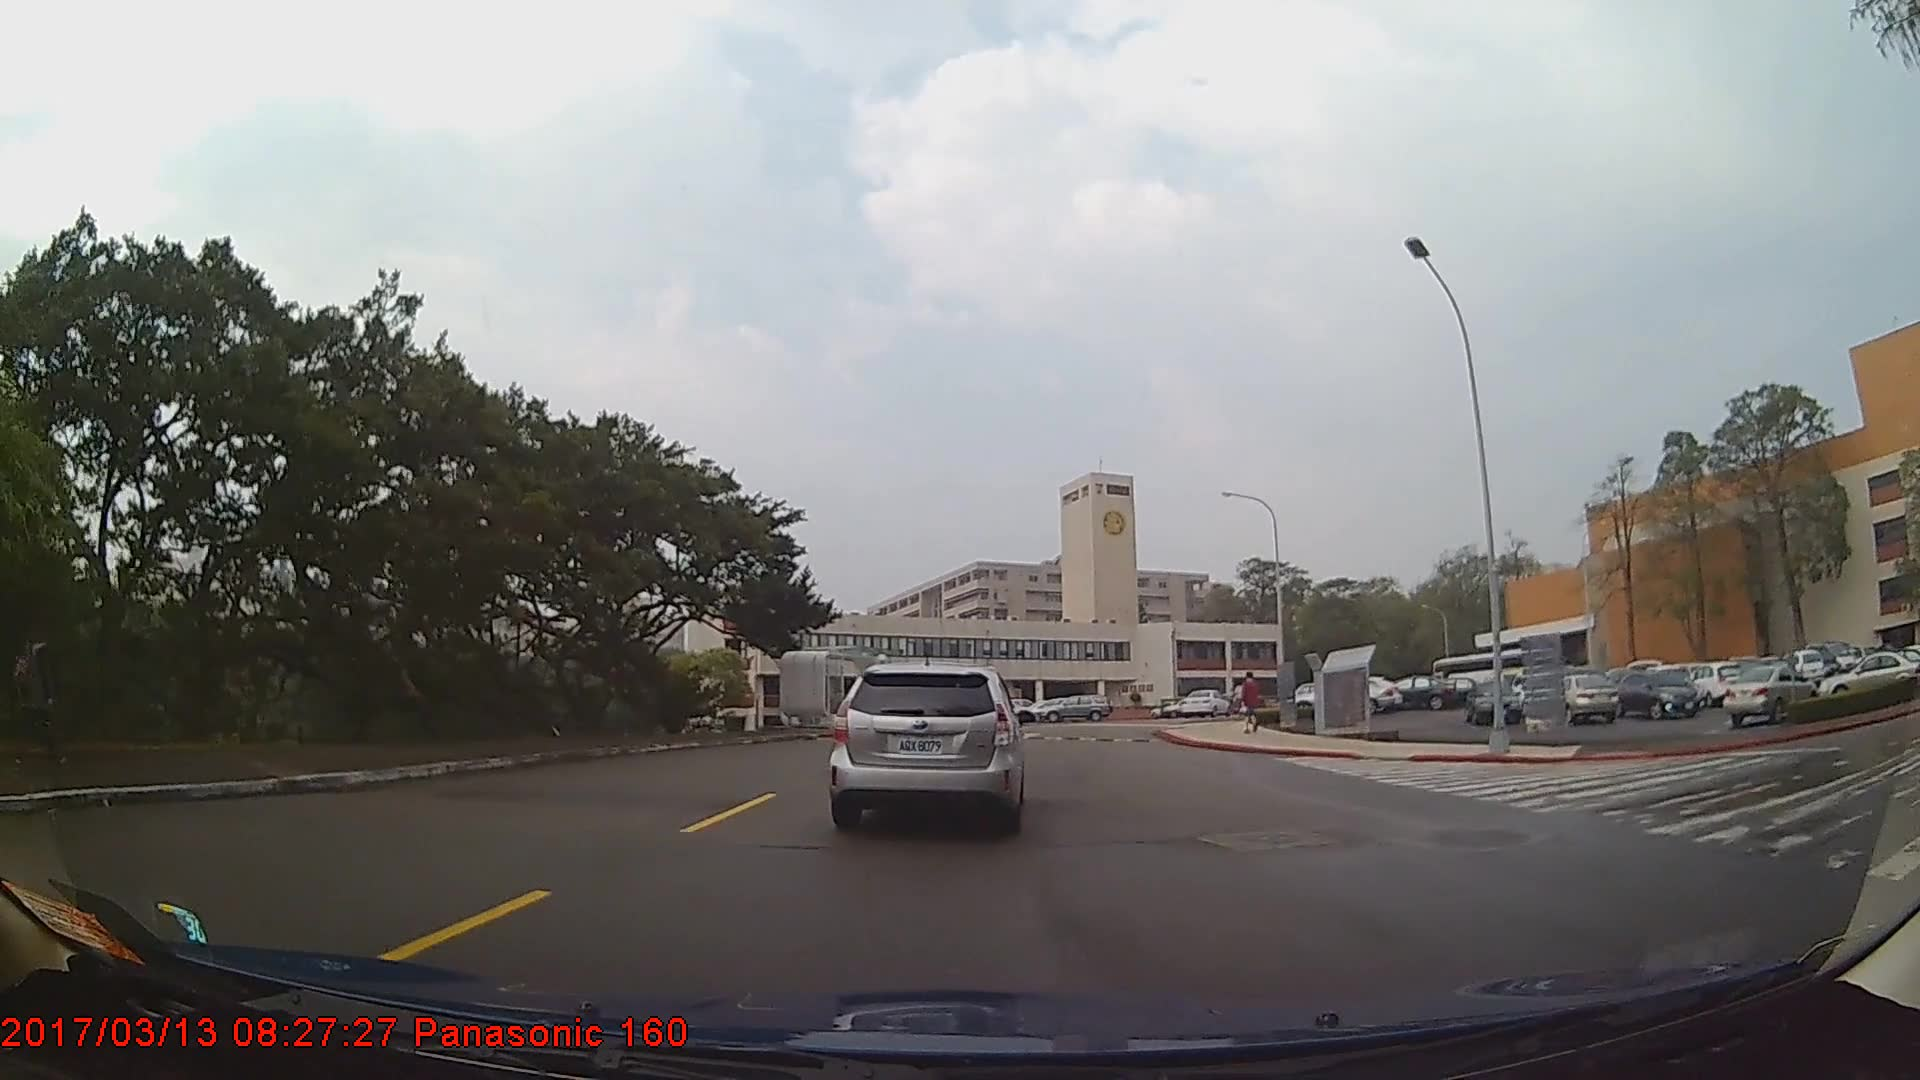pedestrian: (4, 619, 64, 759), (1240, 672, 1263, 735)
vehicle: (831, 658, 1026, 831), (1723, 662, 1817, 724), (1818, 651, 1914, 699), (1612, 667, 1699, 718), (1556, 670, 1619, 725), (1381, 675, 1456, 711), (1465, 679, 1524, 724), (1034, 693, 1111, 722), (1180, 687, 1232, 718)
